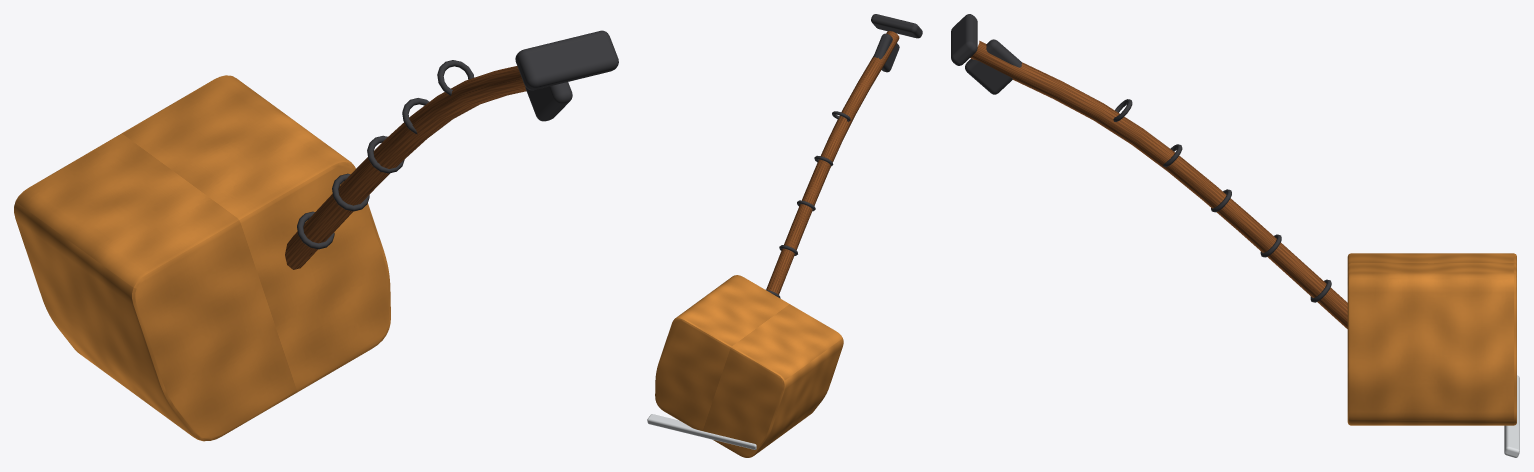
Rendered from arctic-station-fps-kit-snow-shovel-efdfd319__28537.glb.
3 renders of one model, left to right at view 1: azimuth 30°, elevation 25°; view 2: azimuth 150°, elevation 25°; view 3: azimuth 270°, elevation 25°, orthographic. The views are drawn at different scales.
Visible parts, largest first — view 1: snow-shovel; view 2: snow-shovel; view 3: snow-shovel.
Boxes of the visible parts, left/top/right/bottom form: snow-shovel: left=14, top=30, right=618, bottom=441; snow-shovel: left=647, top=14, right=922, bottom=457; snow-shovel: left=951, top=14, right=1519, bottom=457.
Size of the model in its own units: 0.4522 by 0.9056 by 1.14.
Materials: 4 (2 with a texture image).
